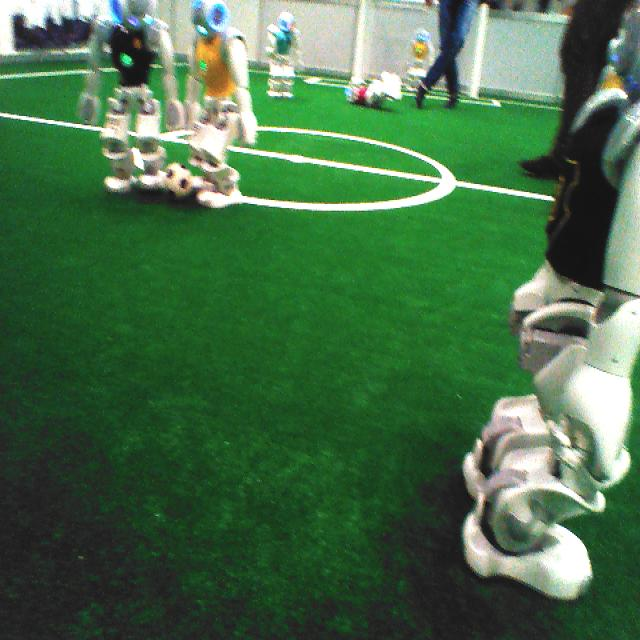ball: (163, 161, 194, 203)
goalpost: (467, 5, 491, 96), (351, 2, 370, 82)
